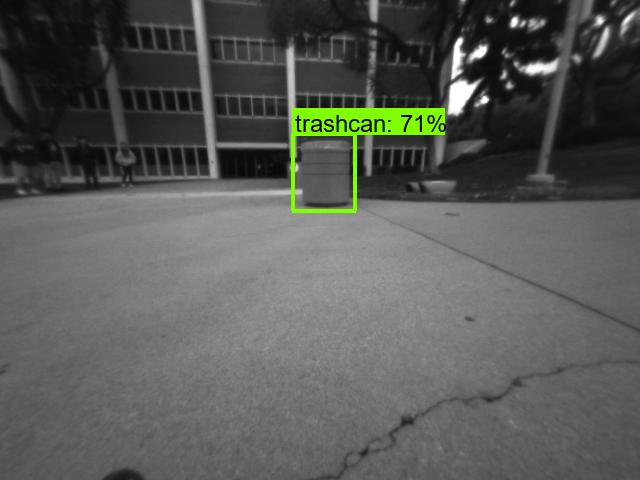trashcan: (299, 136, 356, 211), (286, 151, 303, 191)
